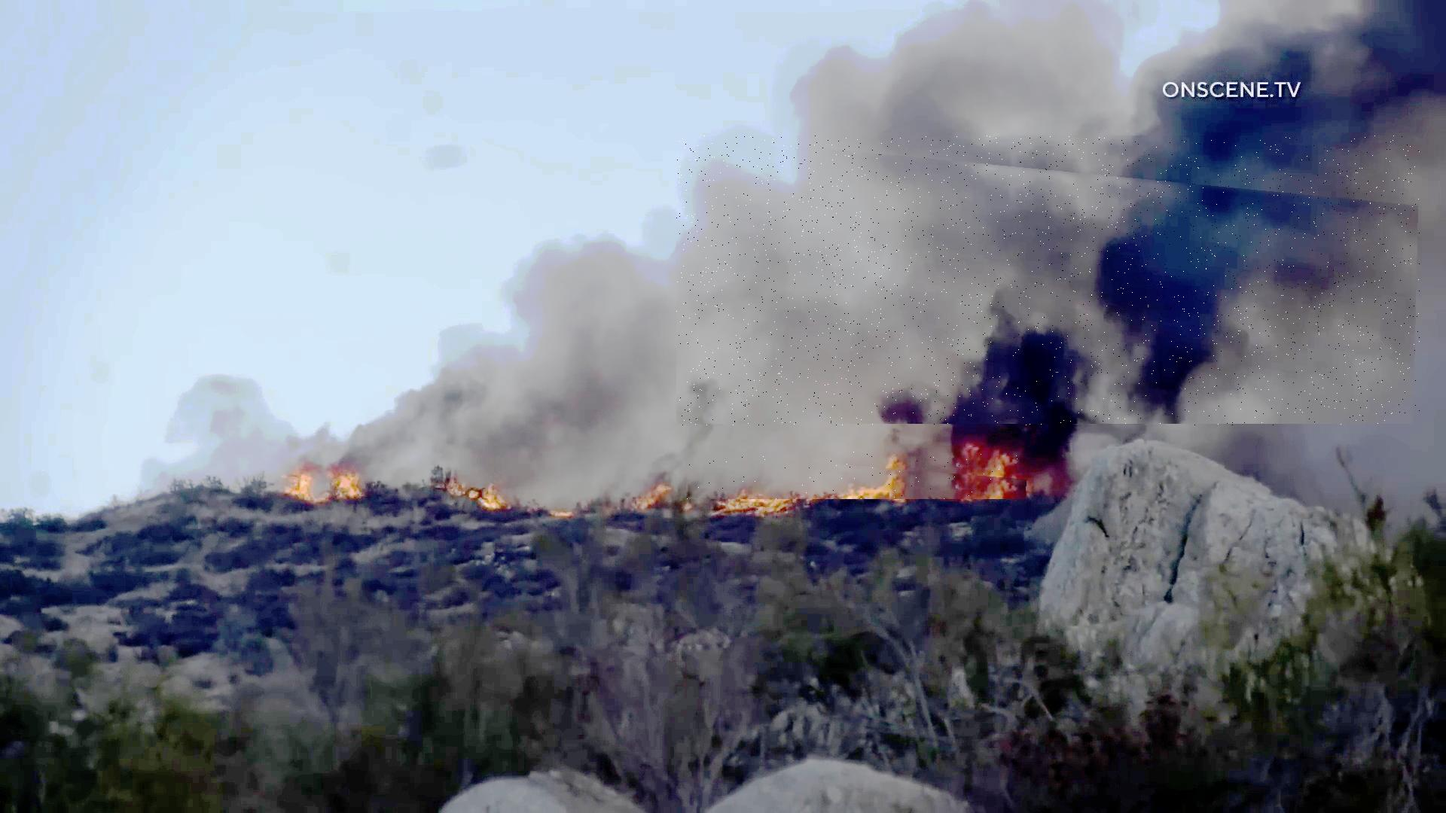fire: (686, 452, 1027, 499)
smoke: (677, 136, 1420, 426)
